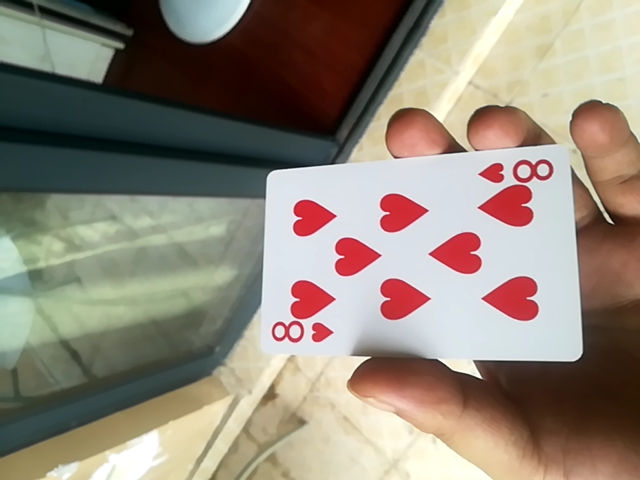hx 8: (254, 135, 580, 364)
